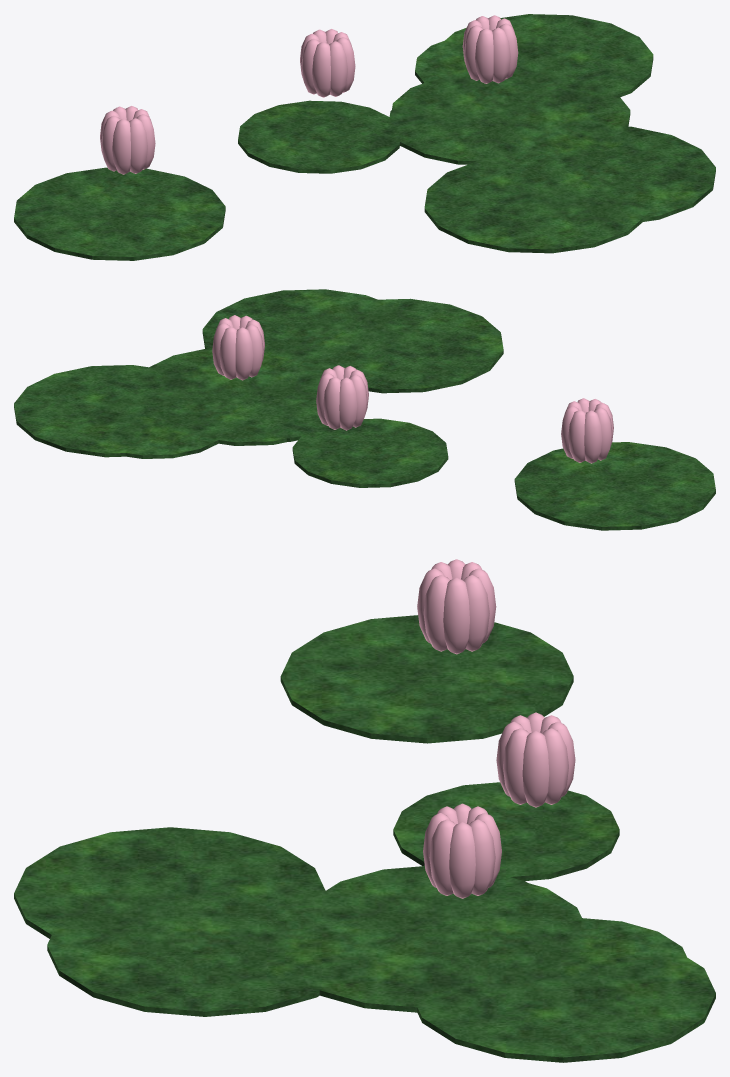
File: lotus_cluster.glb
The picture shows the model from 3 angles, top to bottom: view 1: azimuth 30°, elevation 25°; view 2: azimuth 150°, elevation 25°; view 3: azimuth 270°, elevation 25°; orthographic projection. The views are drawn at different scales.
Visible parts, largest first — view 1: LotusPads, LotusFlowers; view 2: LotusPads, LotusFlowers; view 3: LotusPads, LotusFlowers.
Part boxes in pixels (left/top/right/bottom): LotusPads: left=14, top=14, right=715, bottom=260; LotusFlowers: left=100, top=15, right=518, bottom=174; LotusPads: left=14, top=289, right=715, bottom=530; LotusFlowers: left=212, top=315, right=613, bottom=463; LotusPads: left=14, top=615, right=715, bottom=1062; LotusFlowers: left=417, top=559, right=575, bottom=898.
Bounding box in the file's own units: 3.56 × 0.4709 × 2.38.
2 materials, 1 textured.
